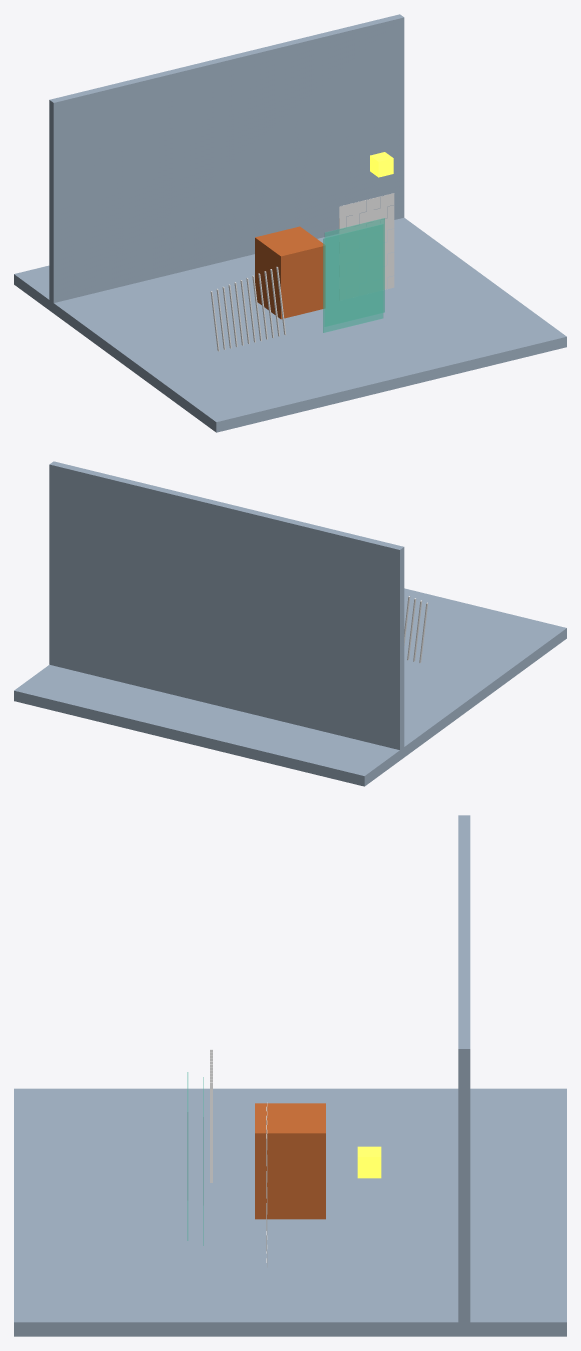
Rendered from taa_scene.gltf.
3 views of the same model, one above another, from view 1: azimuth 30°, elevation 25°; view 2: azimuth 150°, elevation 25°; view 3: azimuth 270°, elevation 25° (orthographic). The views are drawn at different scales.
Parts seen in each view (by area): view 1: Back wall, Floor, Glass front, Glass back, Moving cube, Alpha checker, Emitter; view 2: Back wall, Floor; view 3: Floor, Moving cube, Back wall, Emitter.
Boxes of the visible parts, x1=… form: Back wall: x1=49, y1=14, x2=404, y2=311; Floor: x1=14, y1=217, x2=566, y2=432; Glass front: x1=323, y1=224, x2=383, y2=332; Glass back: x1=324, y1=218, x2=384, y2=326; Moving cube: x1=255, y1=226, x2=325, y2=319; Alpha checker: x1=339, y1=193, x2=394, y2=300; Emitter: x1=370, y1=152, x2=393, y2=177; Back wall: x1=49, y1=461, x2=404, y2=759; Floor: x1=14, y1=588, x2=566, y2=786; Floor: x1=14, y1=1088, x2=566, y2=1336; Moving cube: x1=255, y1=1103, x2=325, y2=1219; Back wall: x1=458, y1=815, x2=470, y2=1335; Emitter: x1=357, y1=1146, x2=381, y2=1178.
Bounding box in the file's own units: 7 × 4.44 × 7.
Materials: 6 (1 with a texture image).
